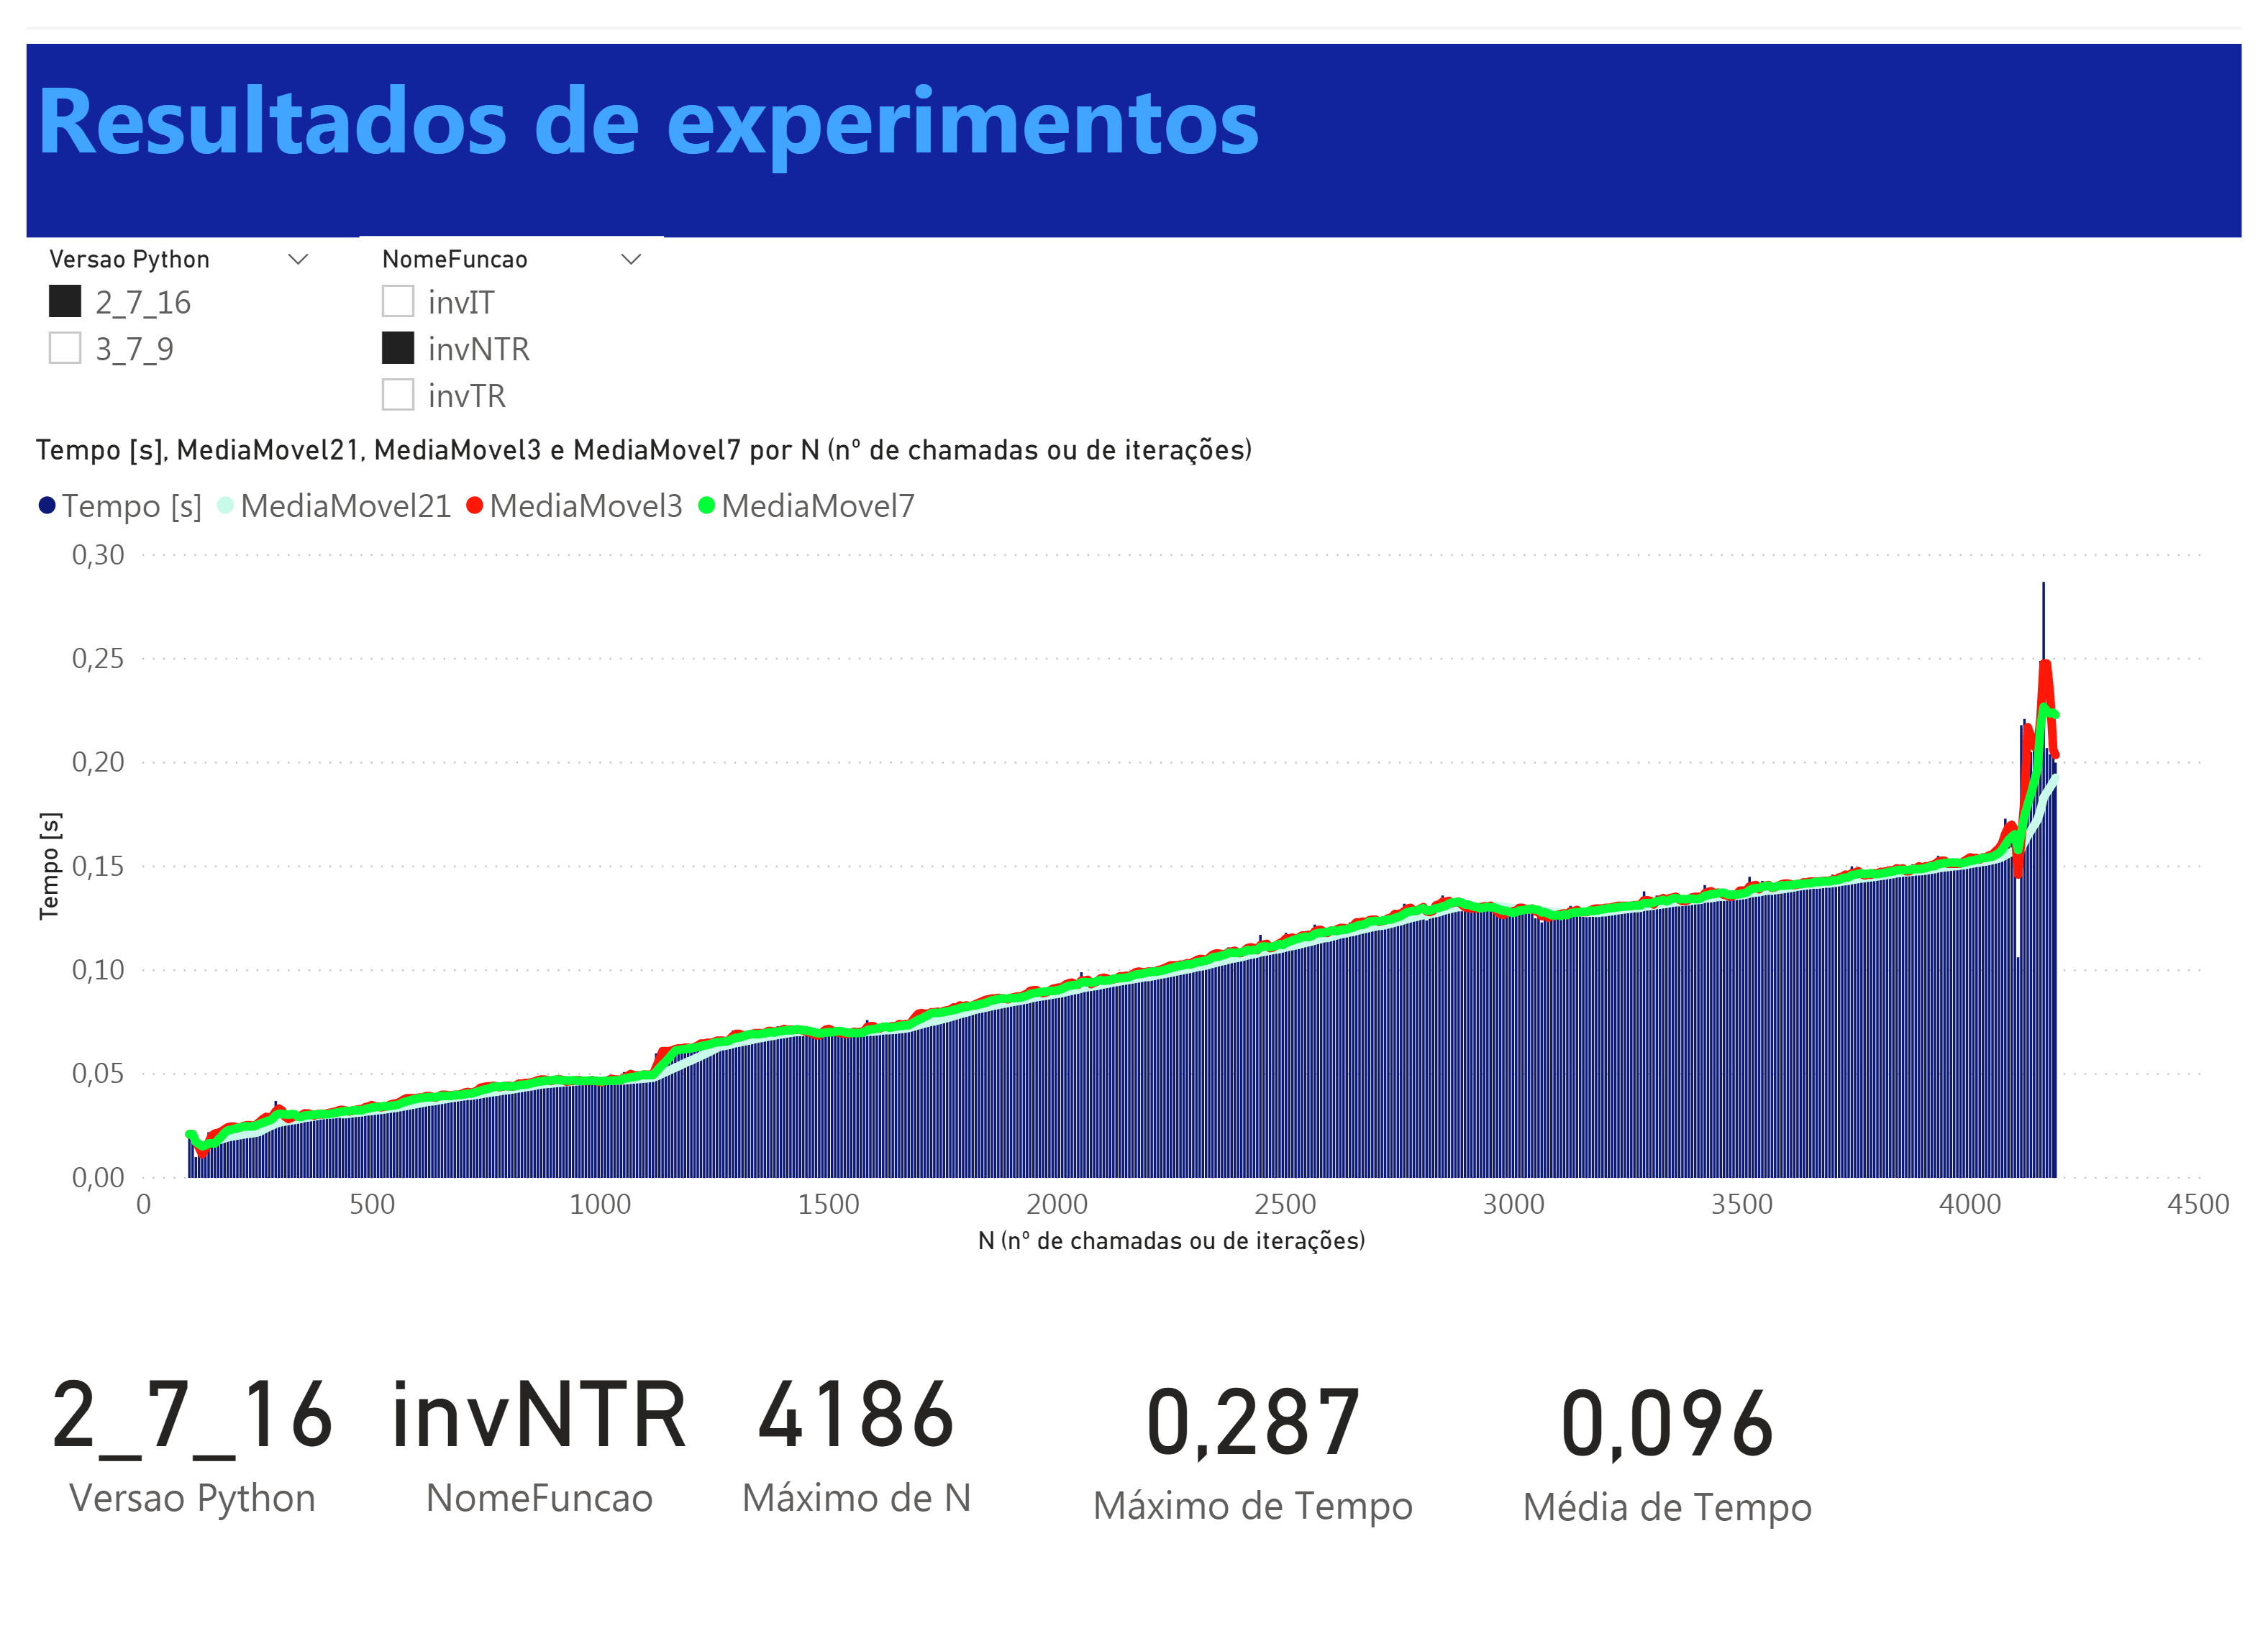

The page's visual inventory and layout, read from the dashboard file:
{"tool":"powerbi","page":{"name":"Inverte string","canvas":[1280,900],"ordinal":2},"visuals":[{"type":"card","fields":{"Values":["Max(Tabela1.Tempo)"]},"box":[600,708,216,192],"z":0},{"type":"card","fields":{"Values":["Min(Tabela1.NomeFuncao)"]},"box":[192,704,208,192],"z":1000},{"type":"card","fields":{"Values":["Max(Tabela1.N)"]},"box":[400,704,160,192],"z":2000},{"type":"card","fields":{"Values":["Avg(Tabela1.Tempo)"]},"box":[840,720,216,168],"z":3000},{"type":"slicer","fields":{"Values":["Tabela1.Versao Python"]},"box":[0,112,176,112],"z":4000},{"type":"card","fields":{"Values":["Min(Tabela1.Versao Python)"]},"box":[0,704,192,192],"z":5000},{"type":"textbox","box":[0,0,1280,112],"z":6000},{"type":"slicer","fields":{"Values":["Tabela1.NomeFuncao"]},"box":[192,112,176,112],"z":7000},{"type":"lineClusteredColumnComboChart","fields":{"Y":["Sum(Tabela1.Tempo)"],"Category":["Tabela1.N"],"Y2":["Tabela1.MediaMovel21","Tabela1.MediaMovel3","Tabela1.MediaMovel7"]},"box":[0,224,1280,480],"z":8000}]}

Visuals, with their boxes in screenshot pixels (x1, y1, x2, y2), scaled from the page's 1280x900 canvas onto the 2268x1641 screenshot:
card - Max(Tabela1.Tempo): {"x1": 1063, "y1": 1291, "x2": 1446, "y2": 1640}
card - Min(Tabela1.NomeFuncao): {"x1": 340, "y1": 1284, "x2": 709, "y2": 1634}
card - Max(Tabela1.N): {"x1": 709, "y1": 1284, "x2": 992, "y2": 1634}
card - Avg(Tabela1.Tempo): {"x1": 1488, "y1": 1313, "x2": 1871, "y2": 1619}
slicer - Tabela1.Versao Python: {"x1": 0, "y1": 204, "x2": 312, "y2": 408}
card - Min(Tabela1.Versao Python): {"x1": 0, "y1": 1284, "x2": 340, "y2": 1634}
textbox: {"x1": 0, "y1": 0, "x2": 2267, "y2": 204}
slicer - Tabela1.NomeFuncao: {"x1": 340, "y1": 204, "x2": 652, "y2": 408}
lineClusteredColumnComboChart - Sum(Tabela1.Tempo) x Tabela1.N: {"x1": 0, "y1": 408, "x2": 2267, "y2": 1284}
